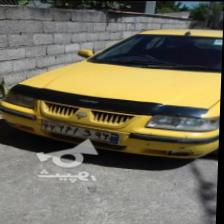plate: (42, 118, 122, 143)
